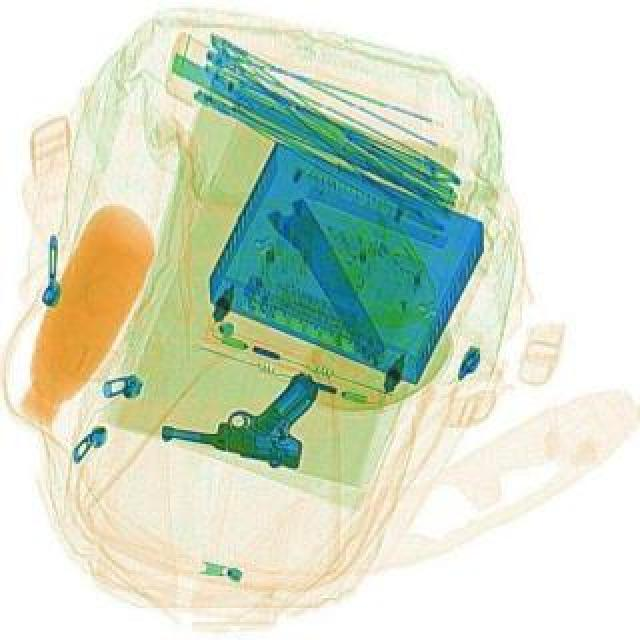gun: (158, 348, 326, 470)
